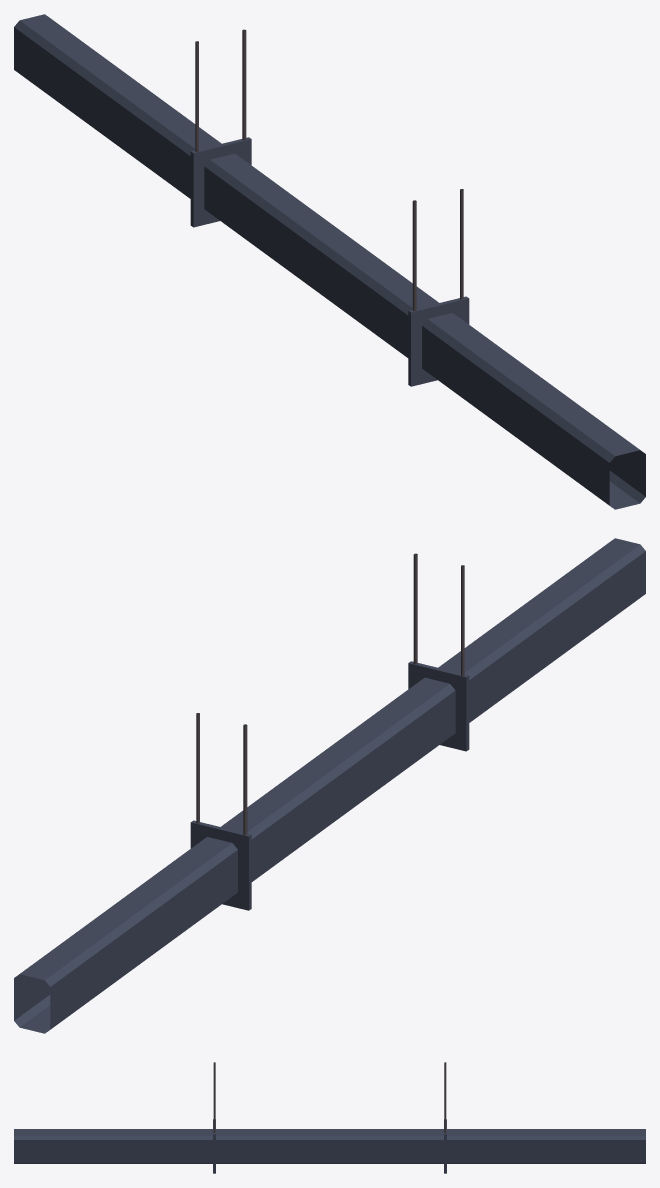
The model's file is SM_top_vent.fbx.
3 views of the same model, one above another, from view 1: azimuth 30°, elevation 25°; view 2: azimuth 150°, elevation 25°; view 3: azimuth 270°, elevation 25° (orthographic). The views are drawn at different scales.
Parts seen in each view (by area): view 1: top_vent; view 2: top_vent; view 3: top_vent.
Part boxes in pixels (box(x1,y1,x2,y2)): top_vent: box(14, 14, 645, 509); top_vent: box(14, 538, 645, 1033); top_vent: box(14, 1062, 645, 1173).
Bounding box in the file's own units: 15.93 × 48 × 283.
